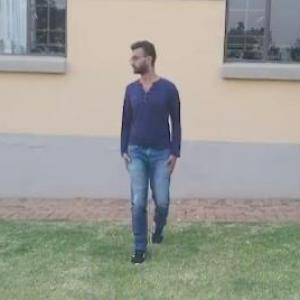follow: (112, 29, 188, 271)
